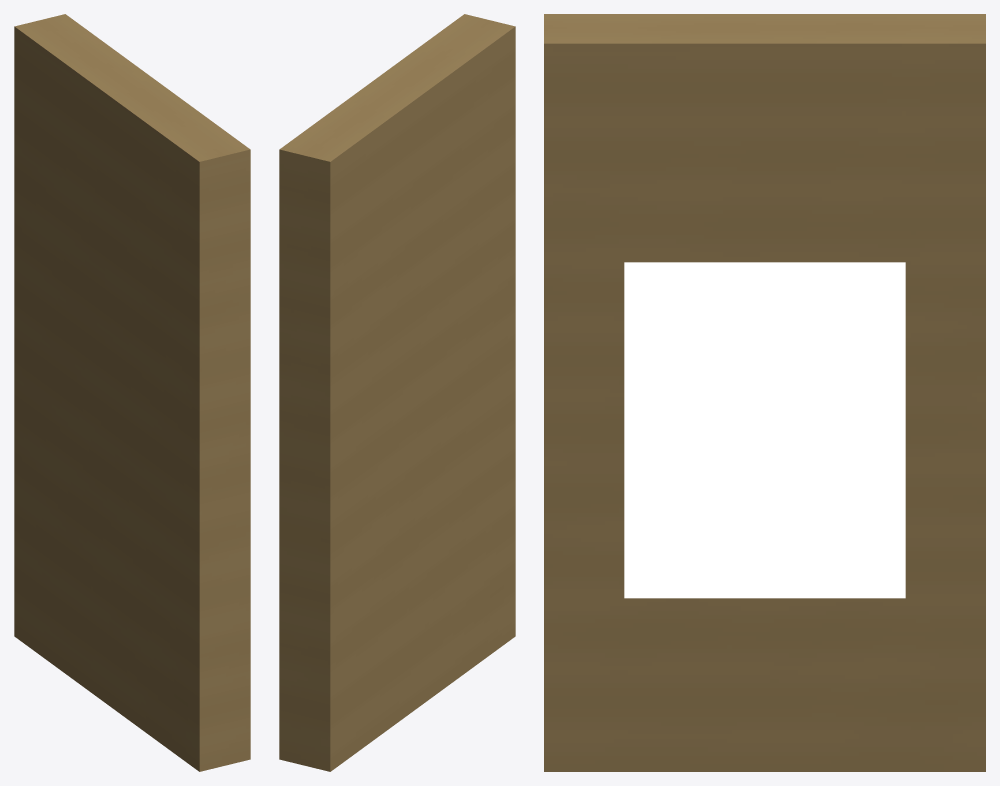
Rendered from AST-CUL-005_D11_exterior_call_024.glb.
3 renders of one model, left to right at view 1: azimuth 30°, elevation 25°; view 2: azimuth 150°, elevation 25°; view 3: azimuth 270°, elevation 25°, orthographic. The views are drawn at different scales.
Visible parts, largest first — view 1: D11_MAIN_EXTERIOR_CALL_PLATE; view 2: D11_MAIN_EXTERIOR_CALL_PLATE; view 3: D11_MAIN_EXTERIOR_CALL_PLATE, D11_MAIN_EXTERIOR_CALL_LENS.
Part boxes in pixels (left/top/right/bottom): D11_MAIN_EXTERIOR_CALL_PLATE: left=14, top=14, right=250, bottom=771; D11_MAIN_EXTERIOR_CALL_PLATE: left=279, top=14, right=515, bottom=771; D11_MAIN_EXTERIOR_CALL_PLATE: left=544, top=14, right=985, bottom=771; D11_MAIN_EXTERIOR_CALL_LENS: left=624, top=262, right=905, bottom=598.
Bounding box in the file's own units: 0.045 × 0.4 × 0.22.
Materials: 2 (1 with a texture image).
